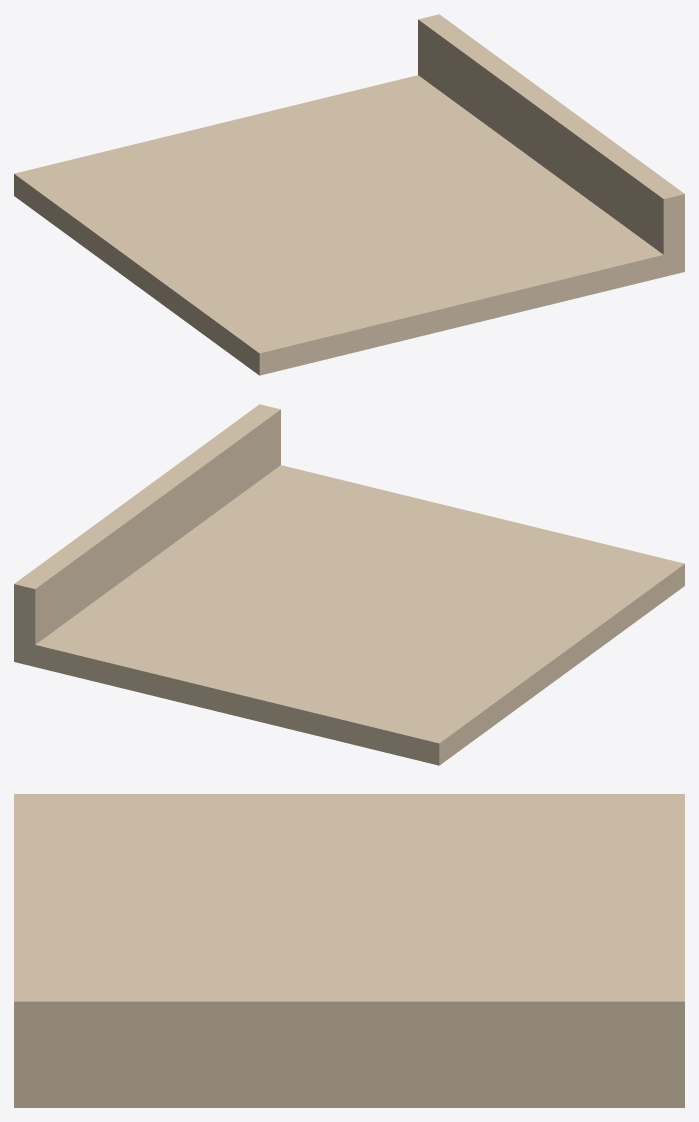
File: CreamRoof_1Edge.glb
The picture shows the model from 3 angles, top to bottom: view 1: azimuth 30°, elevation 25°; view 2: azimuth 150°, elevation 25°; view 3: azimuth 270°, elevation 25°; orthographic projection. The views are drawn at different scales.
Visible parts, largest first — view 1: roof_flat_1Edge_cream; view 2: roof_flat_1Edge_cream; view 3: roof_flat_1Edge_cream.
Part boxes in pixels (x1,y1,x2,y2): roof_flat_1Edge_cream: (14, 14, 684, 375); roof_flat_1Edge_cream: (14, 404, 684, 765); roof_flat_1Edge_cream: (14, 794, 684, 1107).
Size of what is drawn, in the model's own units: 4 by 0.7 by 4.
1 material, 1 textured.
